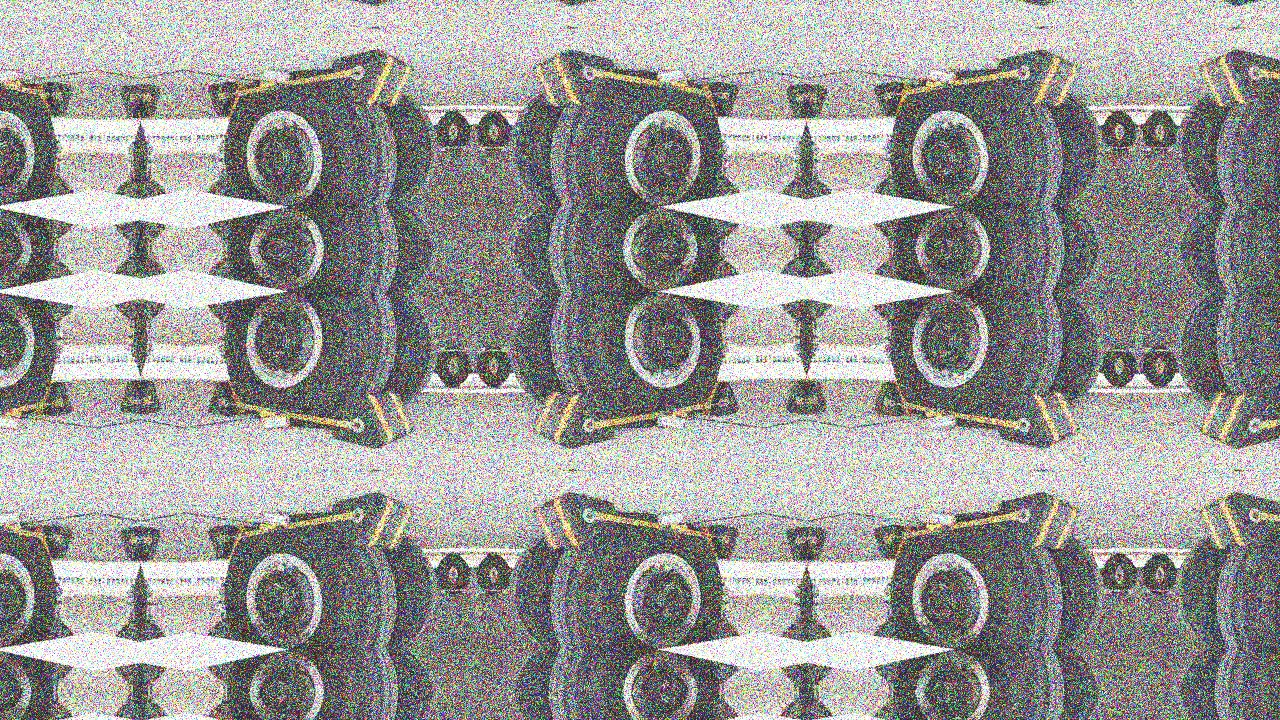chock: (330, 49, 416, 108), (531, 49, 617, 108), (996, 49, 1082, 108), (330, 390, 416, 449), (531, 390, 617, 449), (996, 390, 1082, 449), (330, 492, 416, 551), (531, 492, 617, 551), (996, 492, 1082, 551), (1198, 49, 1280, 108), (1198, 390, 1280, 449), (1198, 492, 1280, 551), (706, 83, 740, 118), (706, 380, 740, 415), (706, 526, 740, 561), (40, 83, 73, 118), (207, 83, 240, 118), (874, 83, 907, 118), (40, 380, 73, 415), (207, 380, 240, 415), (874, 380, 907, 415), (40, 526, 73, 561), (207, 526, 240, 561), (874, 526, 907, 561), (119, 84, 140, 119), (140, 84, 161, 119), (786, 84, 807, 119), (807, 84, 828, 119), (119, 379, 140, 414), (140, 379, 161, 414), (786, 379, 807, 414), (807, 379, 828, 414), (119, 528, 140, 563), (140, 528, 161, 563), (786, 528, 807, 563), (807, 528, 828, 563), (330, 0, 416, 6), (531, 0, 617, 6), (996, 0, 1082, 6), (1198, 0, 1280, 6)
wheel: (215, 76, 403, 208), (882, 76, 1070, 208), (215, 290, 403, 422), (882, 290, 1070, 422), (215, 519, 403, 651), (882, 519, 1070, 651), (544, 76, 731, 208), (544, 290, 731, 422), (544, 519, 731, 651), (1210, 76, 1280, 208), (1210, 290, 1280, 422), (1210, 519, 1280, 651), (0, 76, 65, 208), (0, 290, 65, 422), (0, 519, 65, 651), (218, 205, 406, 249), (541, 205, 729, 249), (218, 249, 406, 293), (541, 249, 729, 293), (218, 648, 406, 692), (541, 648, 729, 692), (885, 205, 1072, 249), (885, 249, 1072, 293), (885, 648, 1072, 692), (1042, 94, 1104, 205), (1176, 94, 1238, 205), (1042, 293, 1104, 404), (1176, 293, 1238, 404), (1042, 537, 1104, 648), (1176, 537, 1238, 648), (376, 94, 437, 205), (510, 94, 571, 205), (376, 293, 437, 404), (510, 293, 571, 404), (376, 537, 437, 648), (510, 537, 571, 648), (218, 692, 406, 720), (541, 692, 729, 720), (885, 692, 1072, 720), (1208, 205, 1280, 249), (1208, 249, 1280, 293), (1208, 648, 1280, 692), (507, 204, 569, 249), (507, 249, 569, 294), (507, 647, 569, 692), (378, 204, 439, 249), (1045, 204, 1106, 249), (1174, 204, 1235, 249), (378, 249, 439, 294), (1045, 249, 1106, 294), (1174, 249, 1235, 294), (378, 647, 439, 692), (1045, 647, 1106, 692), (1174, 647, 1235, 692), (0, 205, 62, 249), (0, 249, 62, 293), (0, 648, 62, 692), (1208, 692, 1280, 720), (0, 692, 62, 720), (507, 692, 569, 720), (378, 692, 439, 720), (1045, 692, 1106, 720), (1174, 692, 1235, 720), (476, 111, 494, 147), (1119, 111, 1137, 147), (1143, 111, 1161, 147), (476, 351, 494, 387), (1119, 351, 1137, 387), (1143, 351, 1161, 387), (435, 555, 453, 591), (493, 555, 511, 591), (1102, 555, 1120, 591), (1160, 555, 1178, 591), (435, 112, 453, 147), (493, 112, 511, 147), (1102, 112, 1120, 147), (1160, 112, 1178, 147), (435, 351, 453, 386), (493, 351, 511, 386), (1102, 351, 1120, 386), (1160, 351, 1178, 386), (476, 555, 494, 590), (1119, 555, 1137, 590), (1143, 555, 1161, 590), (453, 111, 470, 147), (453, 351, 470, 387), (453, 555, 470, 590)
